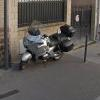Motorcycle: (14, 22, 81, 73)
